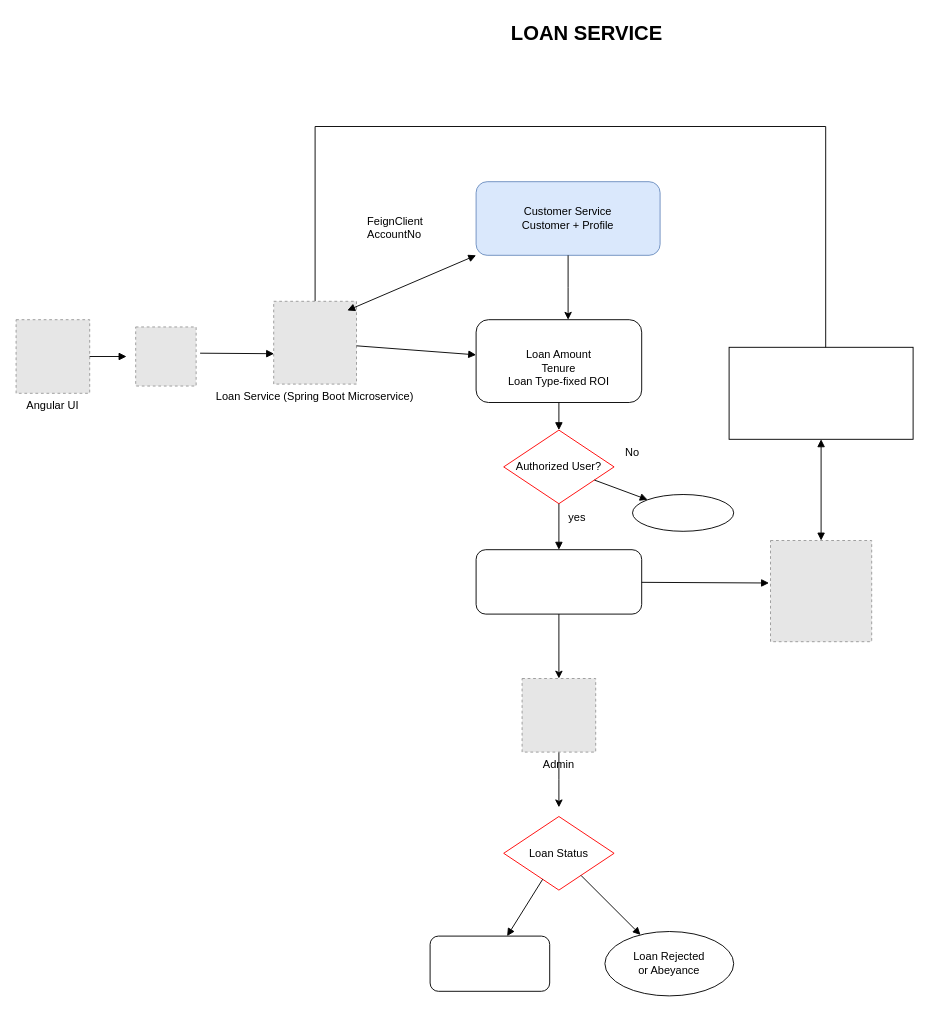
Image size: 929x1012. Some labels were removed from this diagram. Grey dashed boxes stand in for pictures. Each missing label, with the box of its shape:
Apply Loan Application: (475, 549, 642, 614)
Loan Approved: (429, 935, 550, 991)
Loan Details Cancel Loan: (728, 346, 913, 439)
Unauthorized Message: (632, 494, 734, 531)
